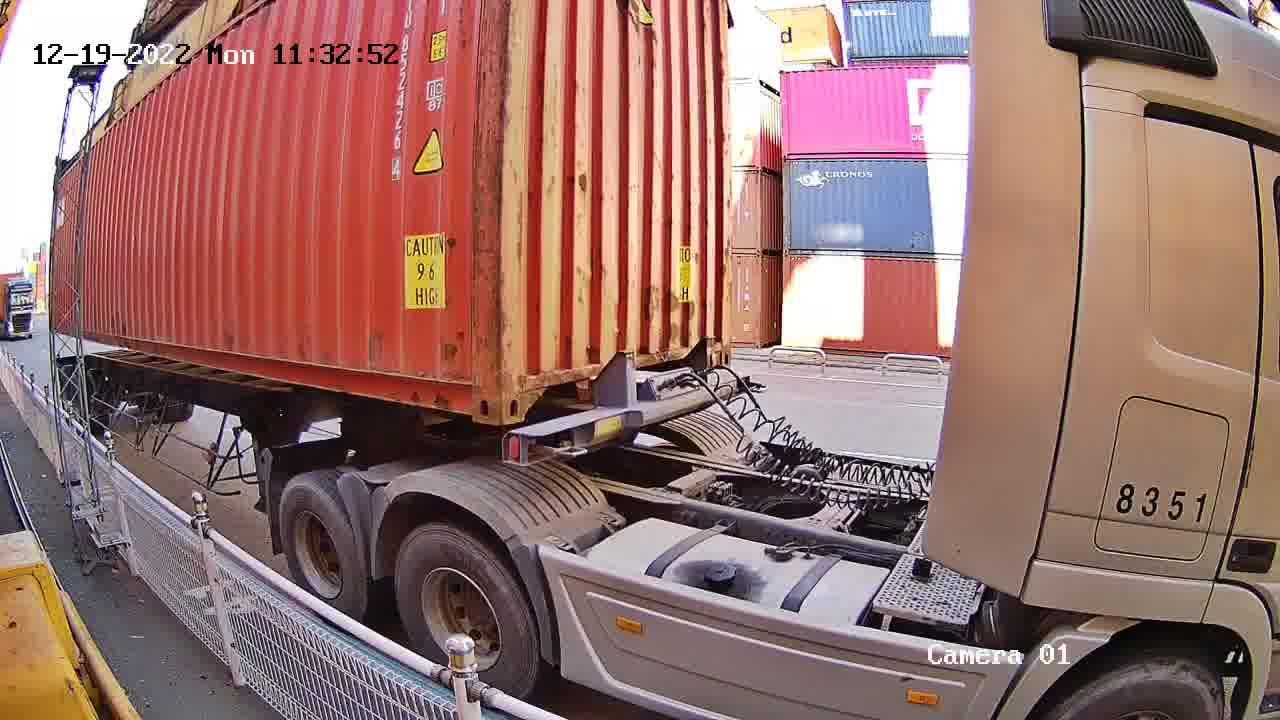Chassis: (505, 373, 760, 464)
Cone: (513, 435, 568, 461), (733, 377, 769, 396)
Hole_L: (503, 360, 556, 425)
Hole_R: (445, 356, 502, 430), (707, 335, 734, 370)
Tire: (392, 529, 529, 686), (277, 481, 364, 611)
